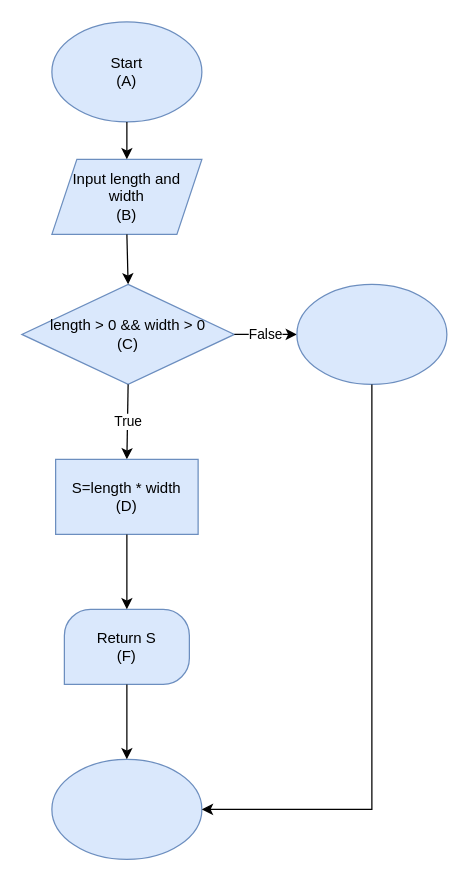
Image size: 469x881. Some labels were removed from this diagram. The shapes that lost their labels are listed below. From the top down, each one's centre as x and y in pixels, then its label:
At (x=371, y=333): "Return error message (E)".
At (x=126, y=808): "End (G)".
